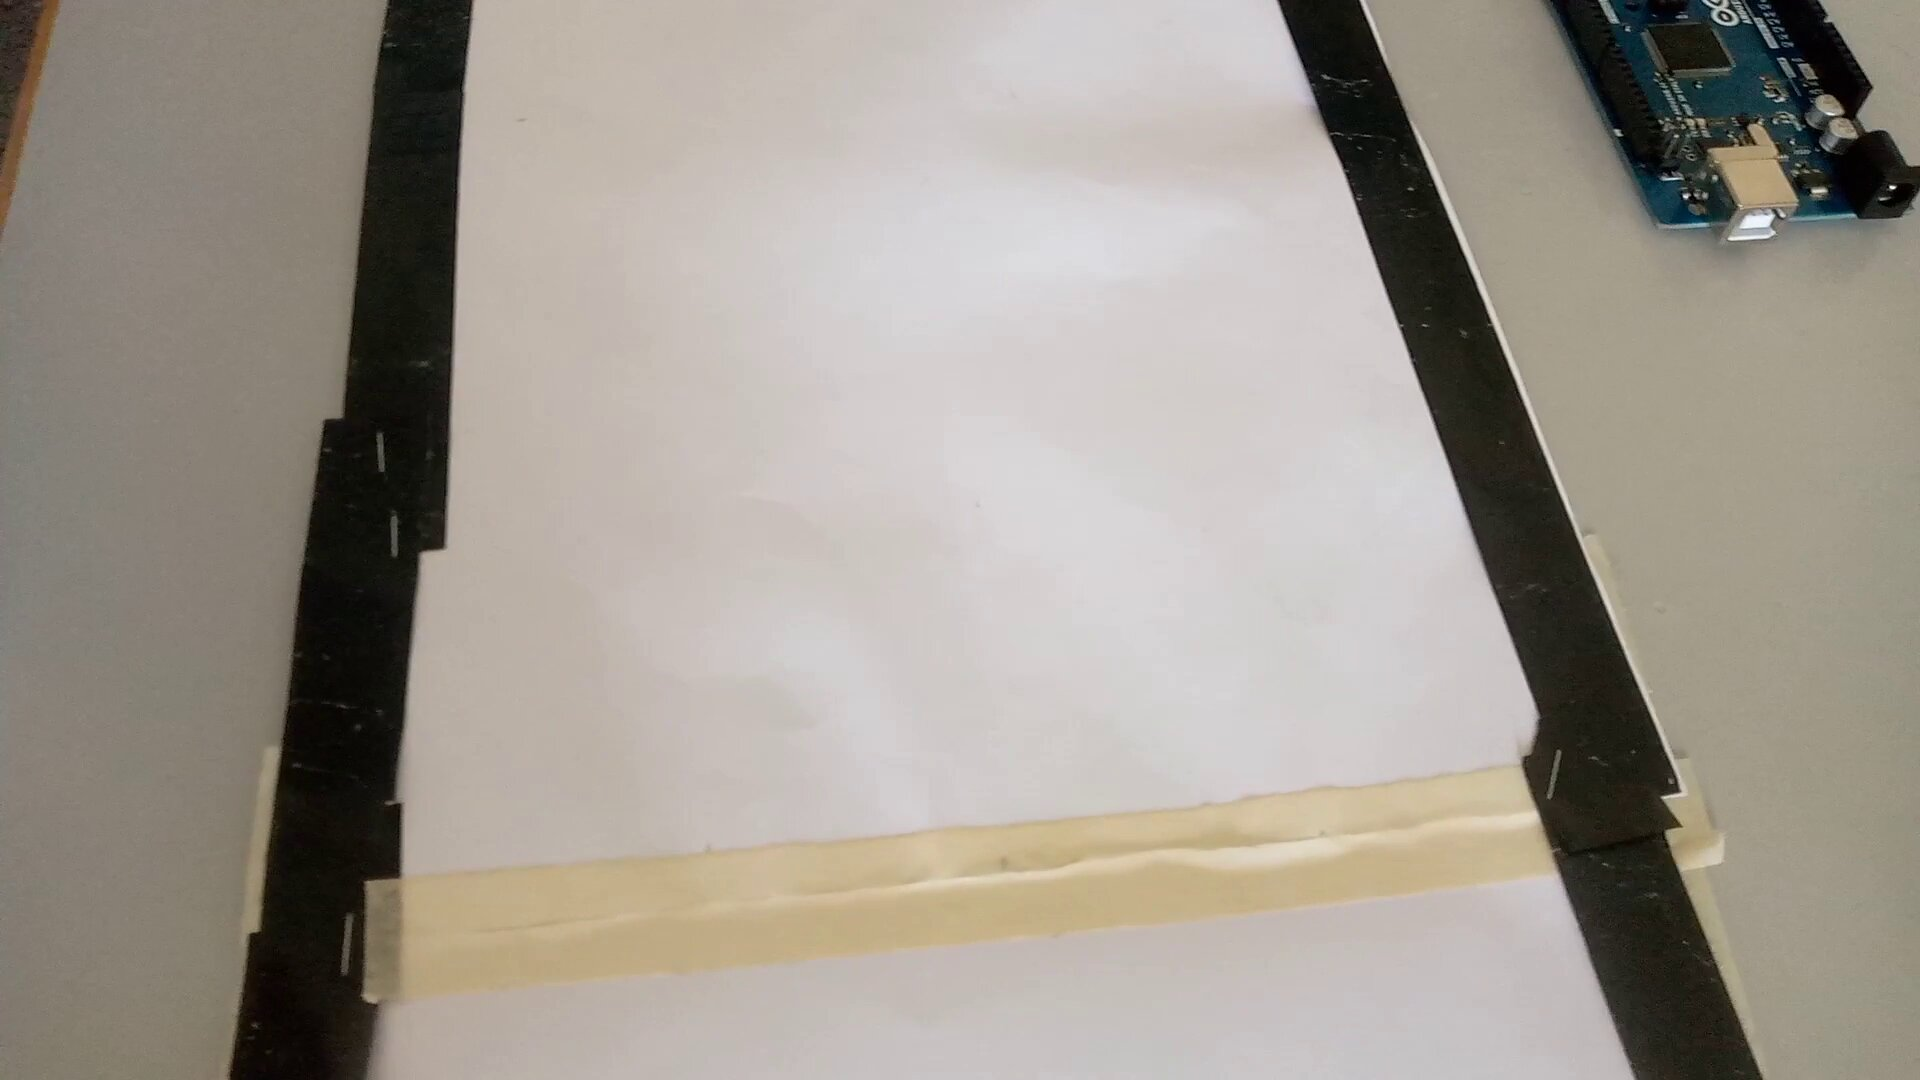forward: (305, 251, 1577, 471)
